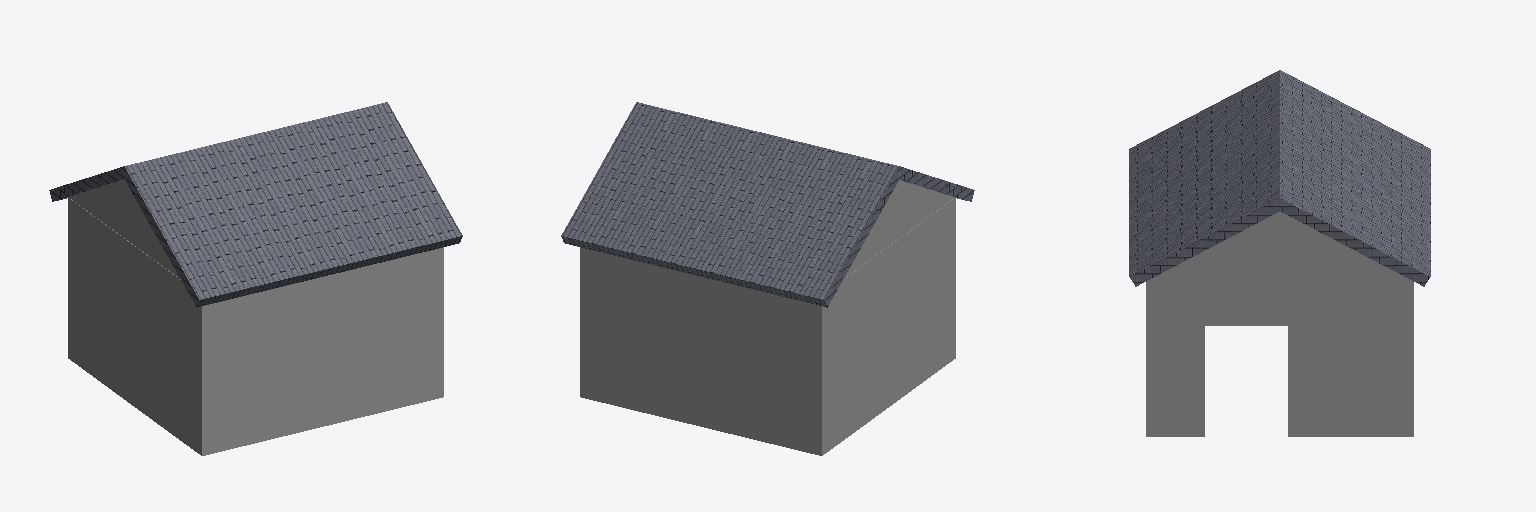
3 views of the same model, side by side, from view 1: azimuth 30°, elevation 25°; view 2: azimuth 150°, elevation 25°; view 3: azimuth 270°, elevation 25° (orthographic).
Parts seen in each view (by area): view 1: Cube.001_Cube.007, Cube.003_Cube.009; view 2: Cube.001_Cube.007, Cube.003_Cube.009; view 3: Cube.003_Cube.009, Cube.001_Cube.007.
Boxes of the visible parts, x1,y1,x2,y2 form: Cube.001_Cube.007: [68, 180, 443, 455]; Cube.003_Cube.009: [49, 102, 462, 307]; Cube.001_Cube.007: [580, 180, 955, 455]; Cube.003_Cube.009: [561, 102, 974, 307]; Cube.003_Cube.009: [1129, 70, 1430, 286]; Cube.001_Cube.007: [1146, 212, 1413, 436].
Bounding box in the file's own units: 4.86 × 4.31 × 4.82.
2 materials, 1 textured.